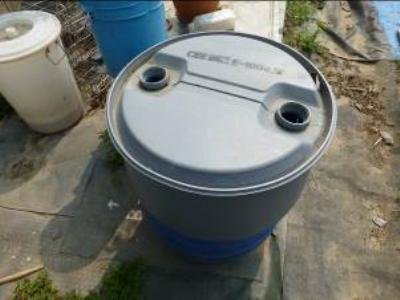bucket: (105, 30, 338, 264), (1, 36, 87, 136)
plate: (1, 8, 62, 61)
